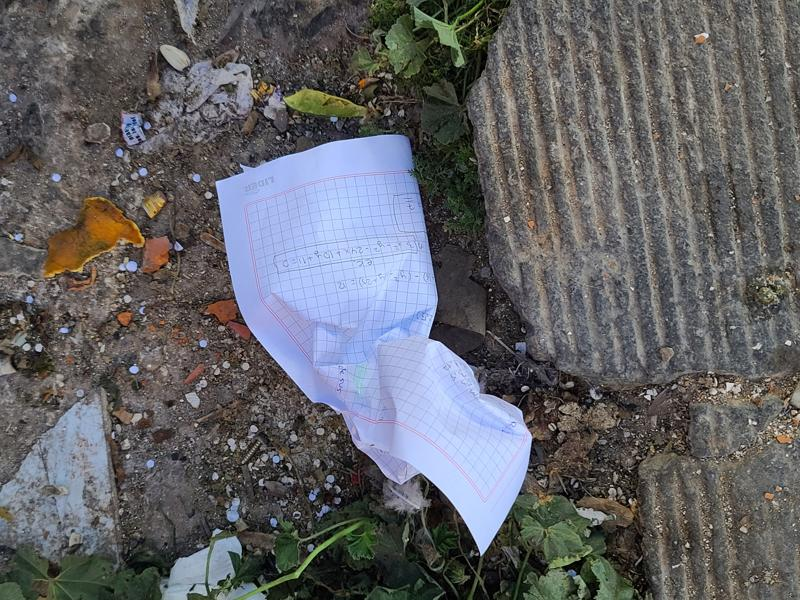papel: (213, 134, 533, 555)
